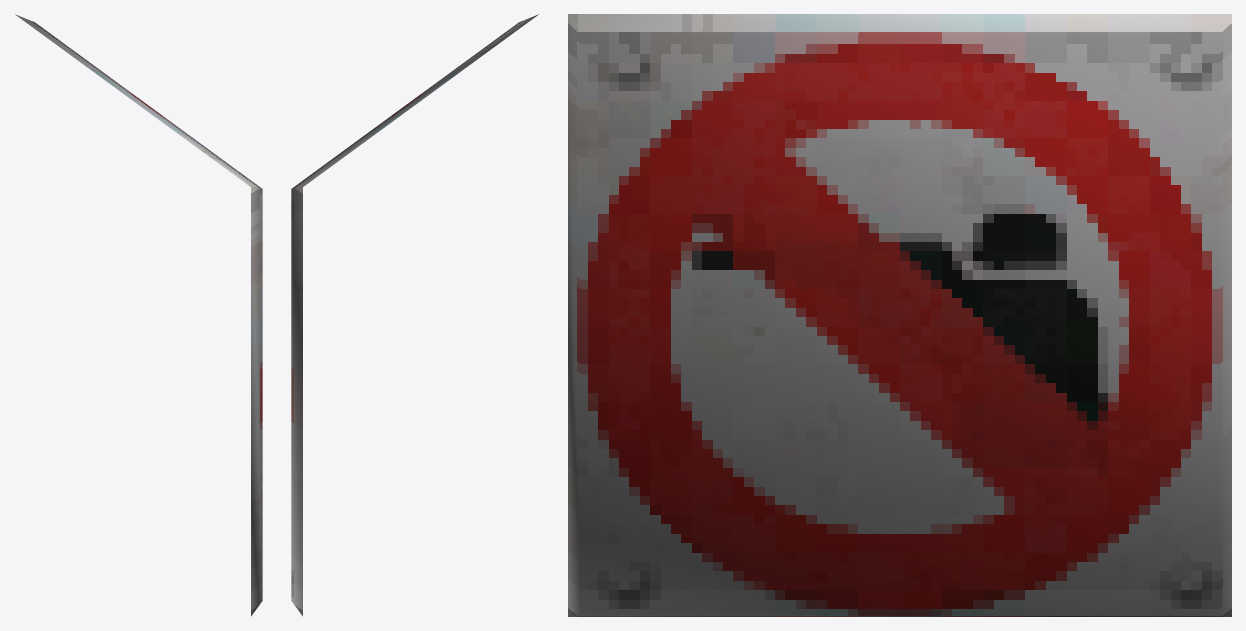
Rendered from Sign_No_Firing01.glb.
The picture shows the model from 3 angles, left to right: view 1: azimuth 30°, elevation 25°; view 2: azimuth 150°, elevation 25°; view 3: azimuth 270°, elevation 25°; orthographic projection. The views are drawn at different scales.
Parts seen in each view (by area): view 1: SIGN_NO_FIRING01; view 2: SIGN_NO_FIRING01; view 3: SIGN_NO_FIRING01.
Boxes of the visible parts, x1,y1,x2,y2 form: SIGN_NO_FIRING01: (15,14,262,616); SIGN_NO_FIRING01: (291,14,538,616); SIGN_NO_FIRING01: (568,14,1231,616).
Size of the model in its own units: 0.017 by 0.429 by 0.428.
1 material, 1 textured.
